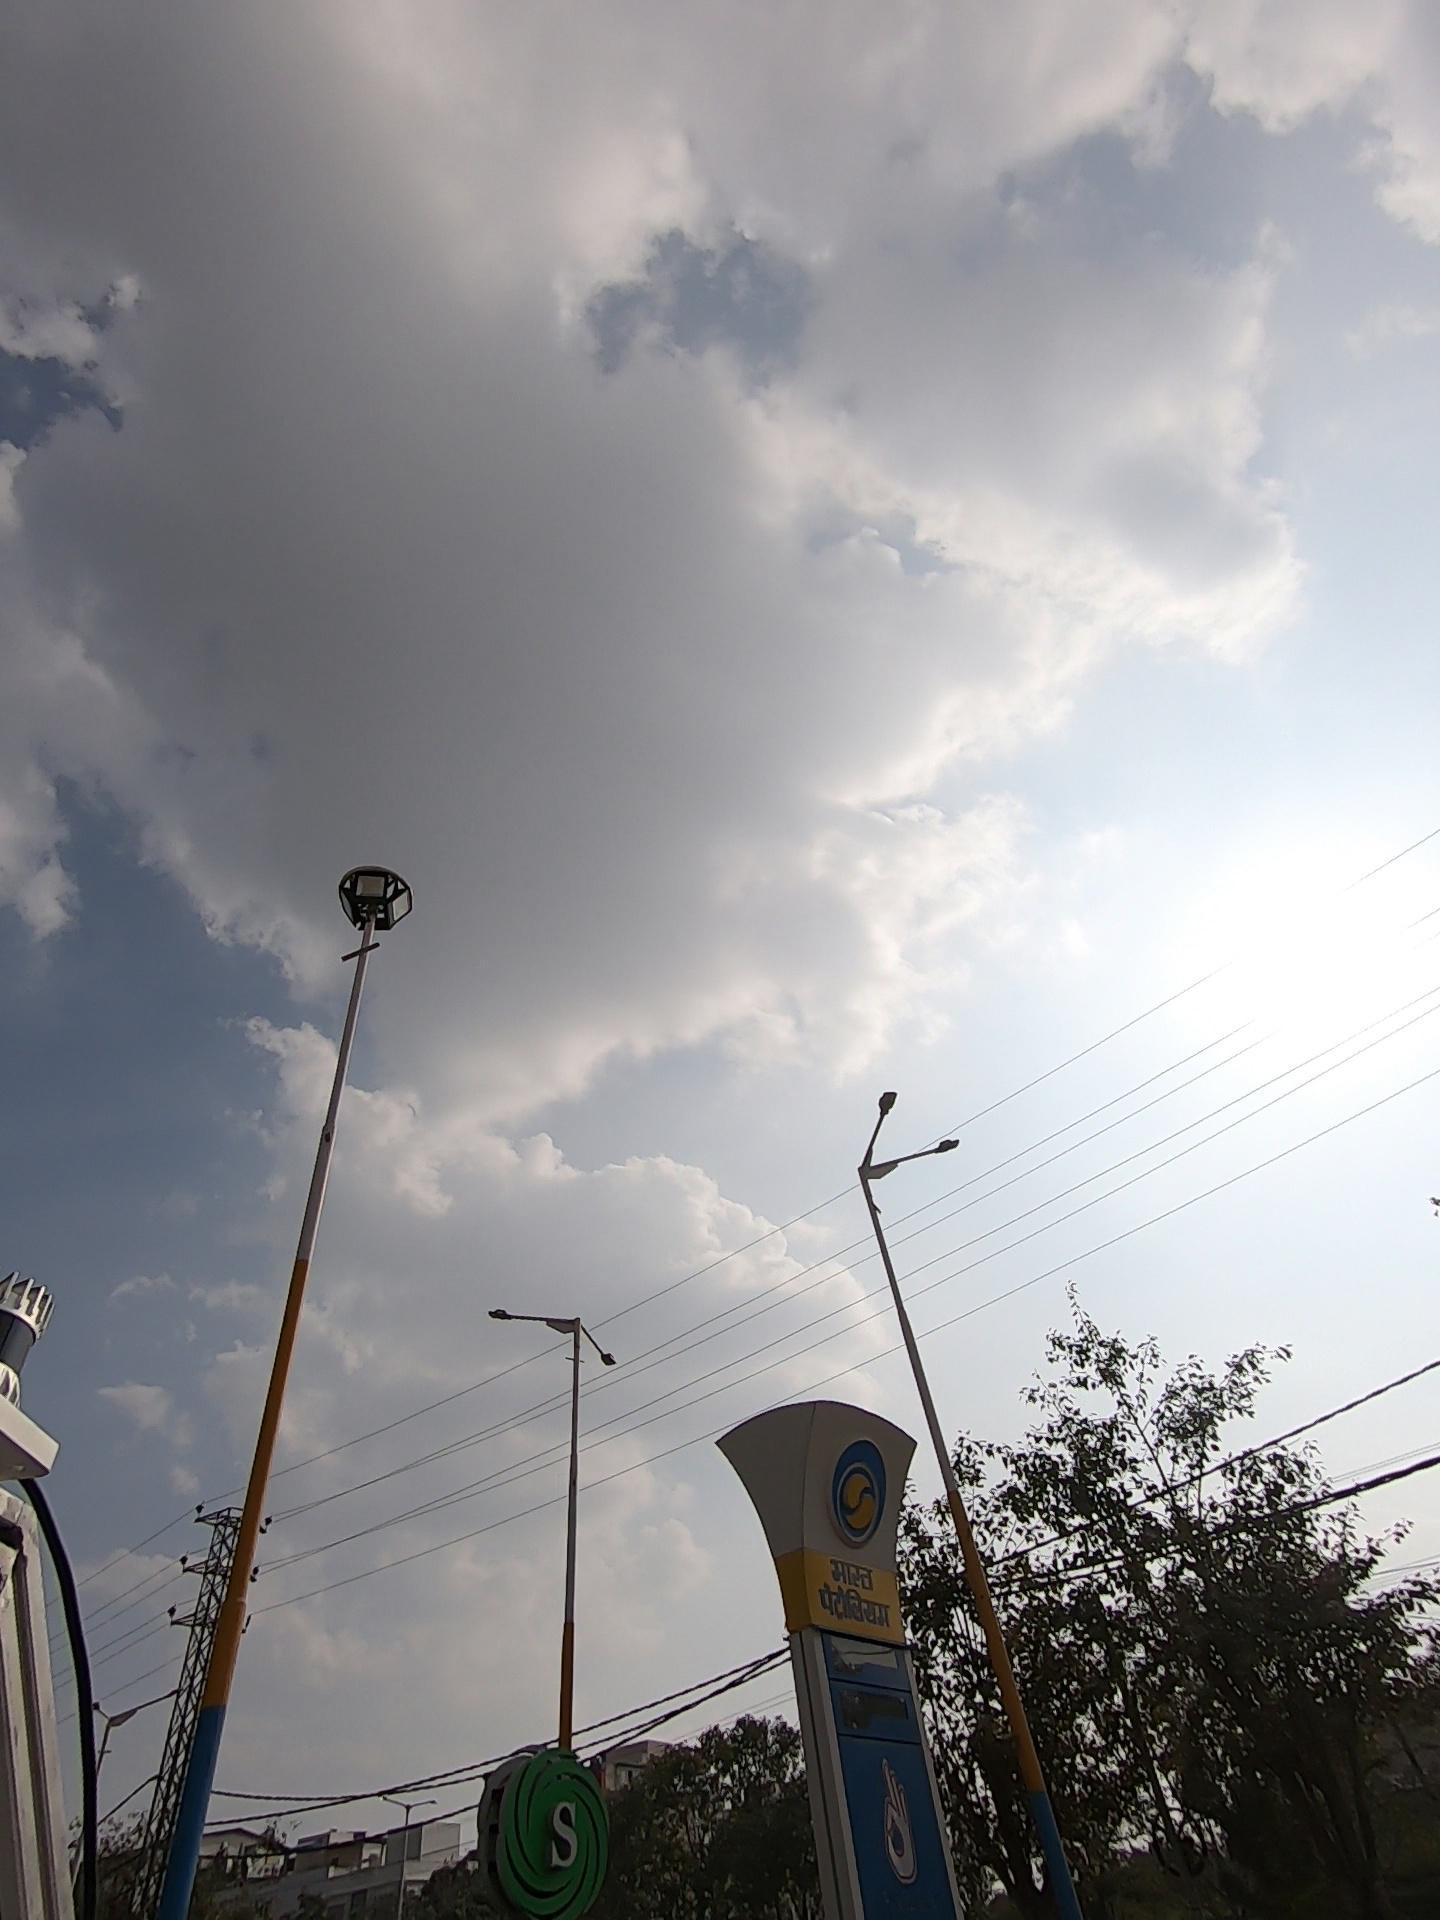off: (425, 1271, 696, 1456), (785, 1076, 991, 1256), (349, 851, 440, 987)
